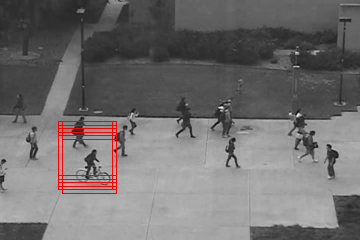bicycle: (77, 183, 108, 221), (101, 111, 131, 150), (46, 140, 82, 171)
